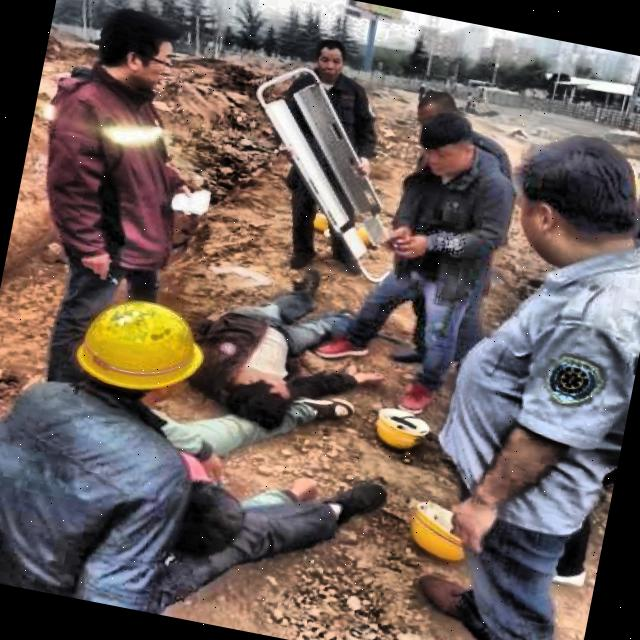helmet: (66, 286, 216, 414)
